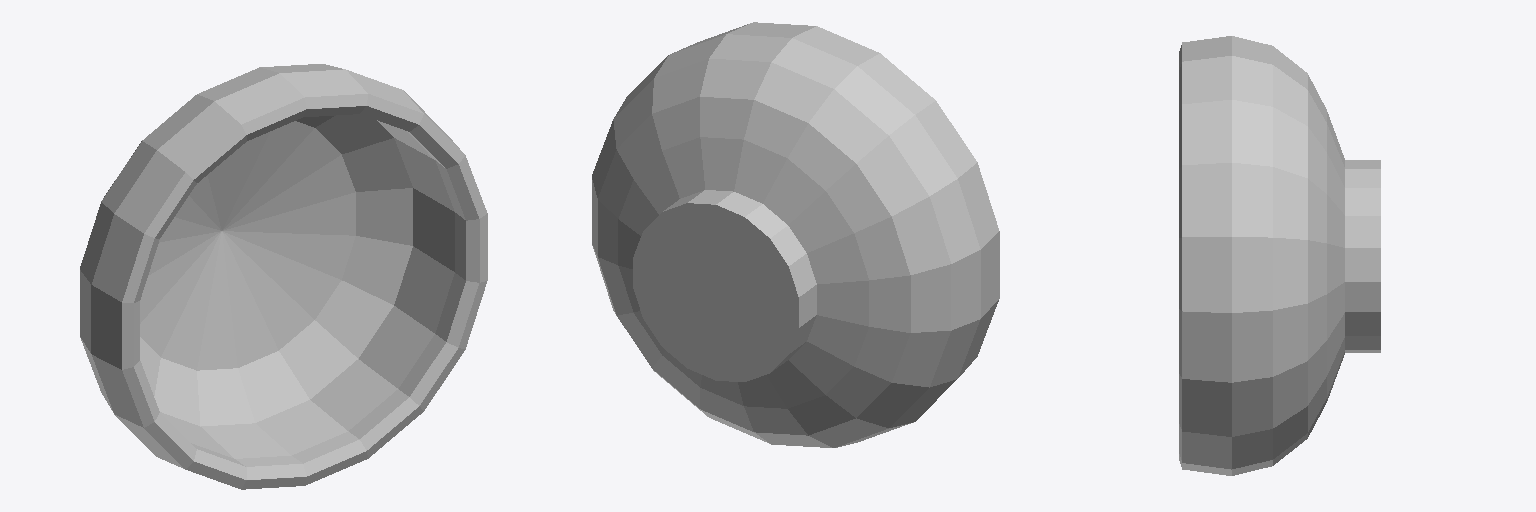
The model's file is Environment_Bowl.obj.
3 renders of one model, left to right at view 1: azimuth 30°, elevation 25°; view 2: azimuth 150°, elevation 25°; view 3: azimuth 270°, elevation 25°, orthographic.
Visible parts, largest first — view 1: Environment_Bowl_Cylinder.026; view 2: Environment_Bowl_Cylinder.026; view 3: Environment_Bowl_Cylinder.026.
Part boxes in pixels (x1,y1,x2,y2): Environment_Bowl_Cylinder.026: (80,64,487,489); Environment_Bowl_Cylinder.026: (592,22,999,447); Environment_Bowl_Cylinder.026: (1179,36,1380,475).
Size of the model in its own units: 0.9845 by 0.9997 by 0.4582.